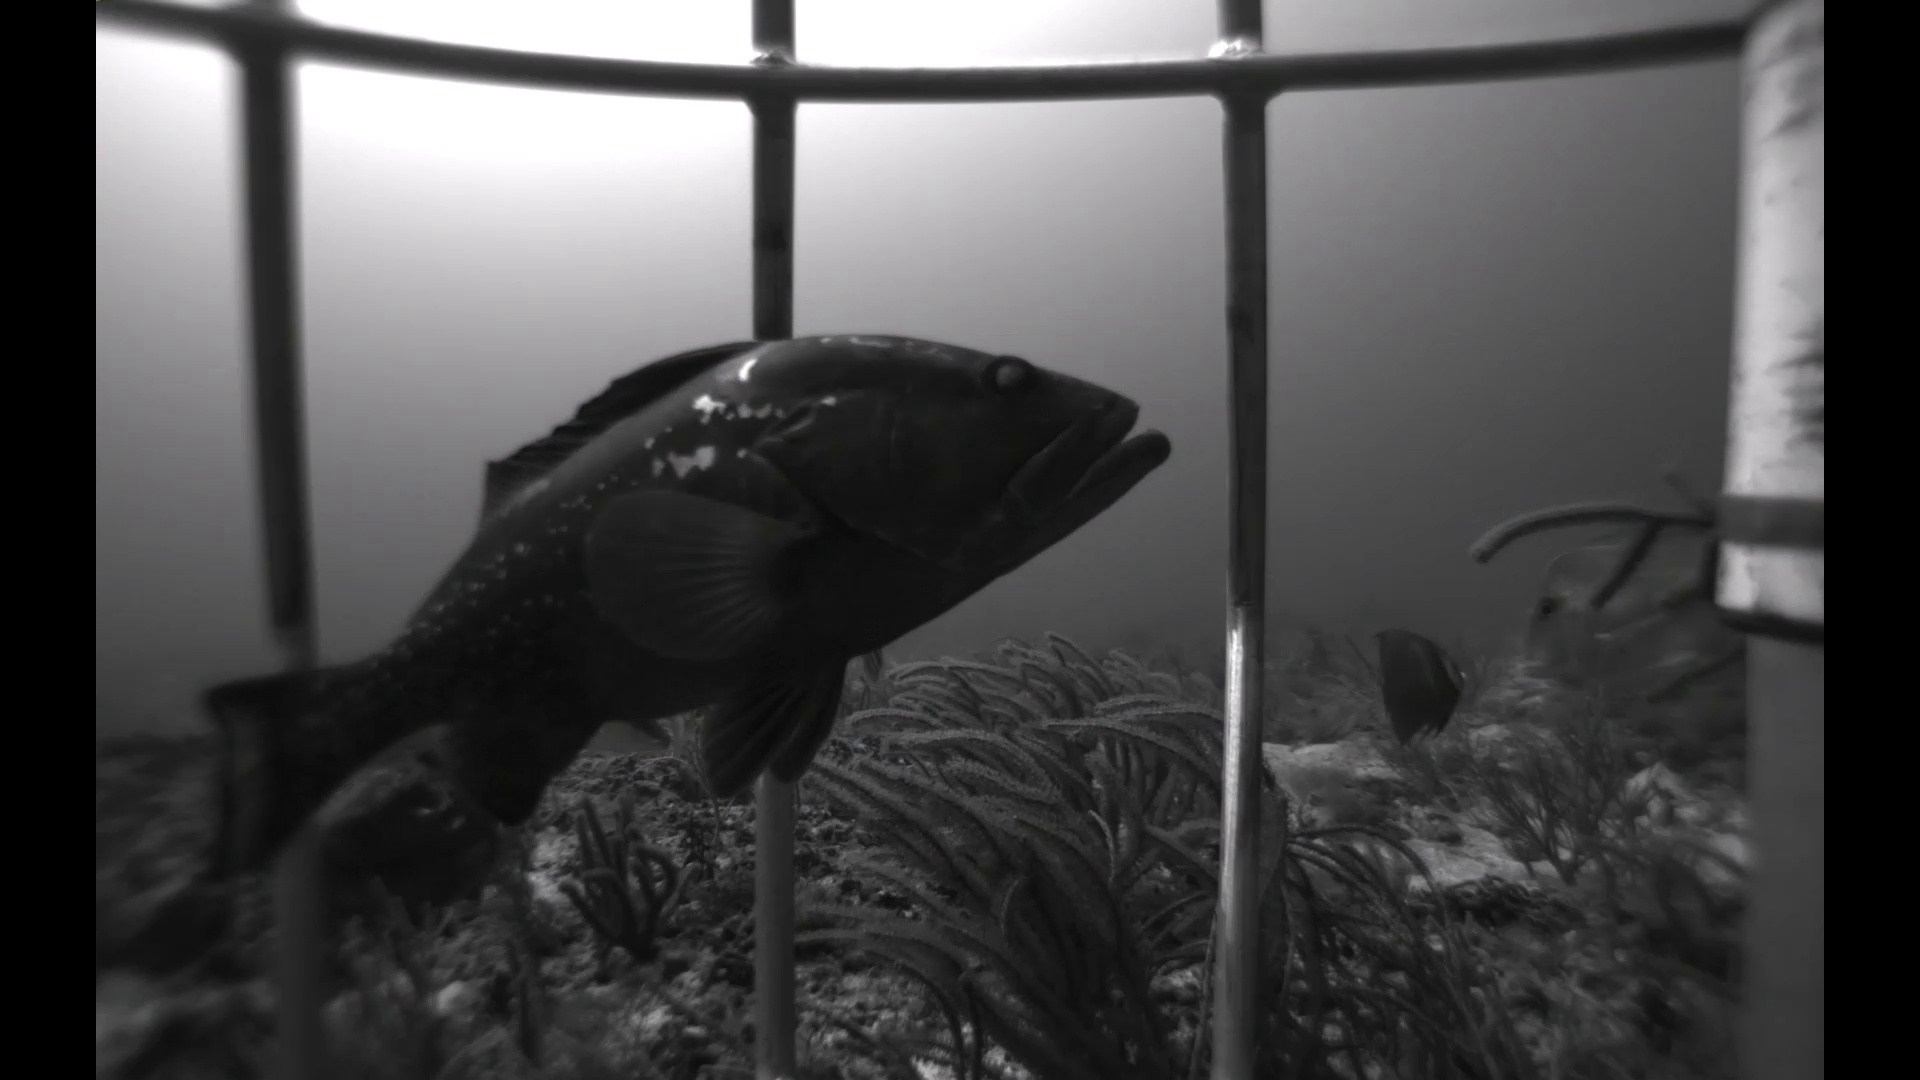CALAMUSNODOSUS-170210608: (1489, 521, 1729, 695)
EPINEPHELUSMORIO-170021211: (150, 309, 1188, 930), (313, 719, 518, 942)
LUTJANUSGRISEUS-170151109: (588, 713, 691, 770)
POMACANTHUSARCUATUS-170290201: (1362, 618, 1481, 756)
